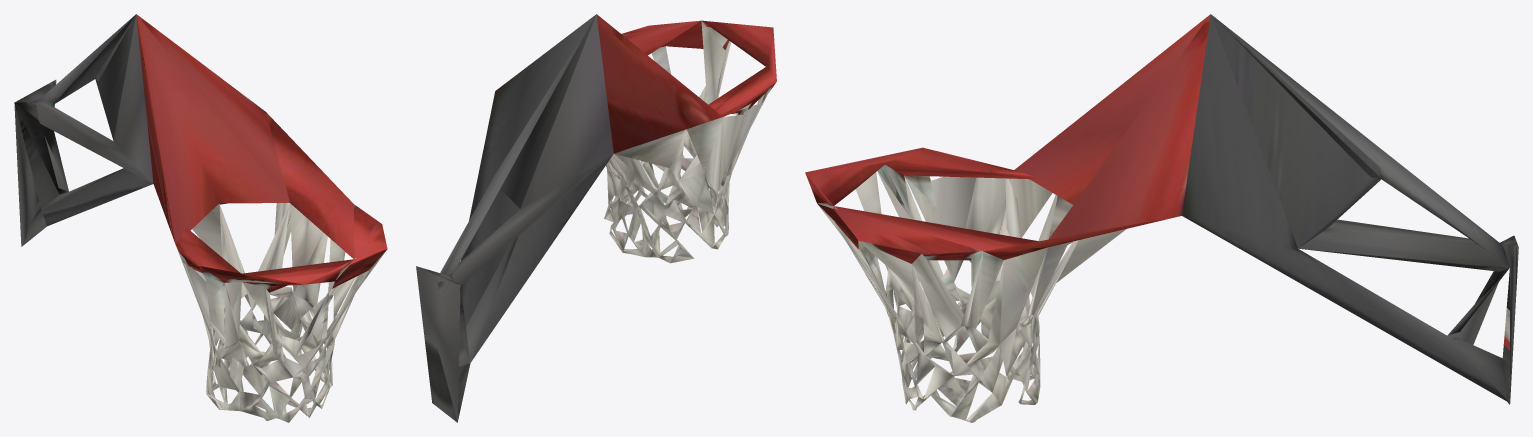
The model's file is gym-backboard.glb.
The picture shows the model from 3 angles, left to right: view 1: azimuth 30°, elevation 25°; view 2: azimuth 150°, elevation 25°; view 3: azimuth 270°, elevation 25°; orthographic projection. The views are drawn at different scales.
Parts seen in each view (by area): view 1: SM_gym-backboard; view 2: SM_gym-backboard; view 3: SM_gym-backboard.
Boxes of the visible parts, bbox=[...] form: SM_gym-backboard: bbox=[14, 14, 387, 422]; SM_gym-backboard: bbox=[416, 14, 776, 422]; SM_gym-backboard: bbox=[805, 14, 1518, 422].
Bounding box in the file's own units: 1.04 × 1.8 × 3.04.
Materials: 1 (1 with a texture image).
